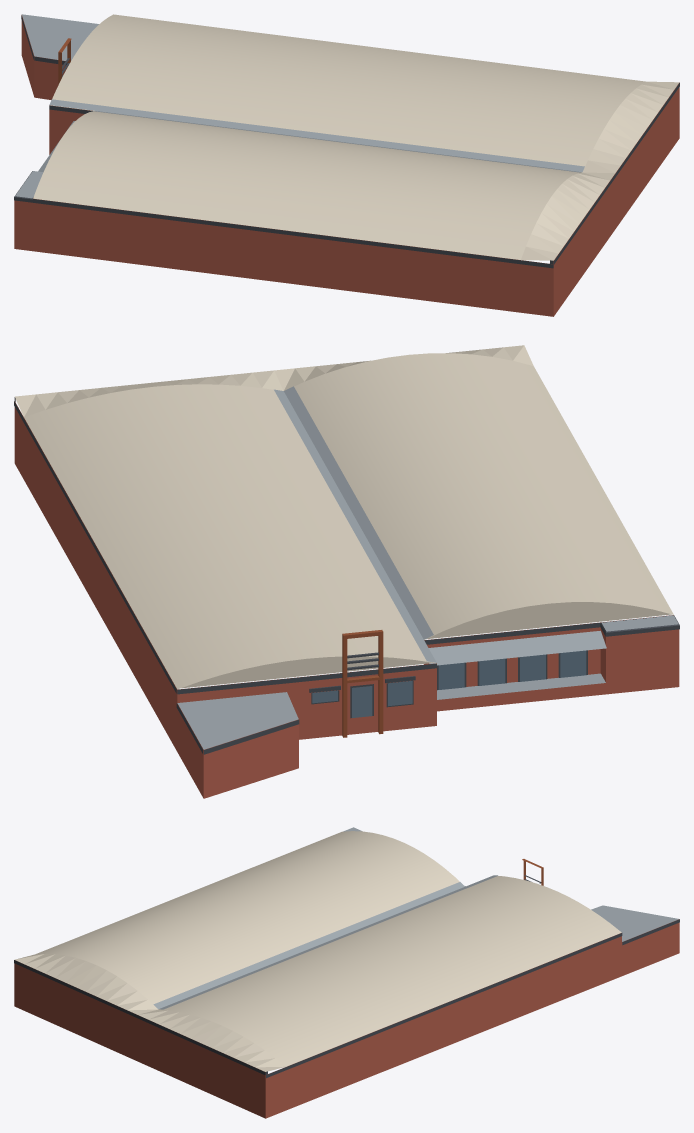
The model's file is detail.glb.
3 renders of one model, top to bottom at view 1: azimuth 30°, elevation 25°; view 2: azimuth 150°, elevation 25°; view 3: azimuth 270°, elevation 25°, orthographic. The views are drawn at different scales.
Visible parts, largest first — view 1: urban-district-market; view 2: urban-district-market; view 3: urban-district-market.
Boxes of the visible parts, bbox=[...] form: urban-district-market: bbox=[14, 14, 679, 316]; urban-district-market: bbox=[14, 345, 679, 798]; urban-district-market: bbox=[14, 827, 679, 1118].
Size of the model in its own units: 73.14 by 9.8 by 82.92.
